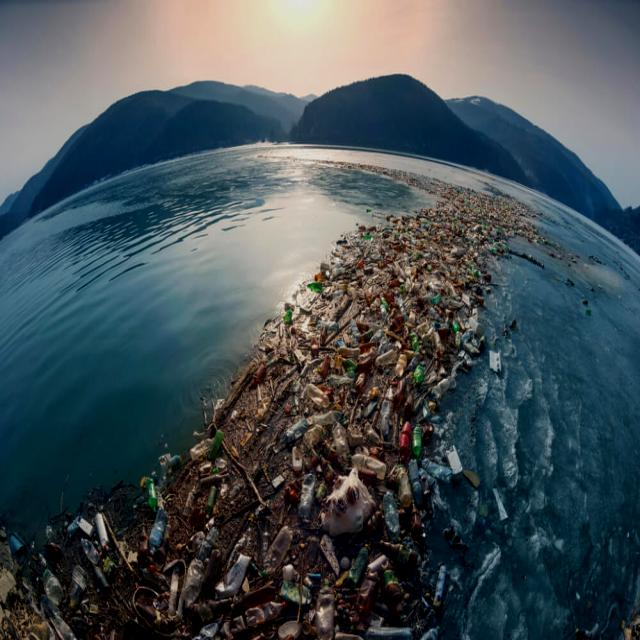oil spill: (43, 183, 539, 639), (335, 221, 430, 396)
